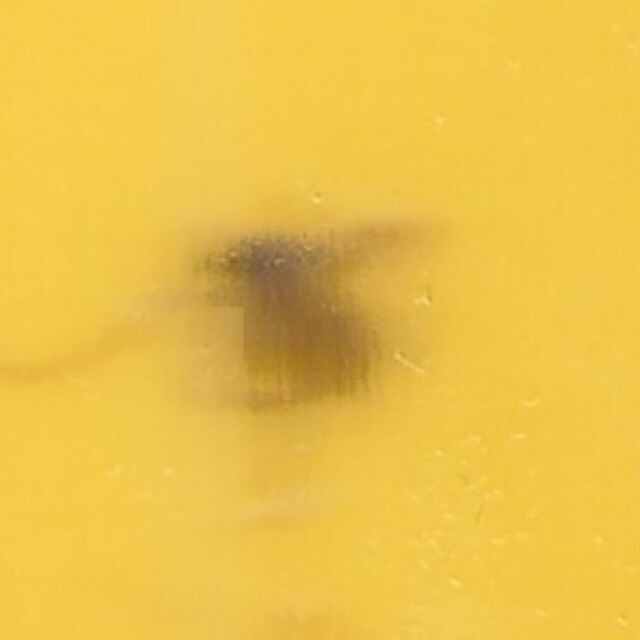Nematocera: (189, 206, 451, 434)
